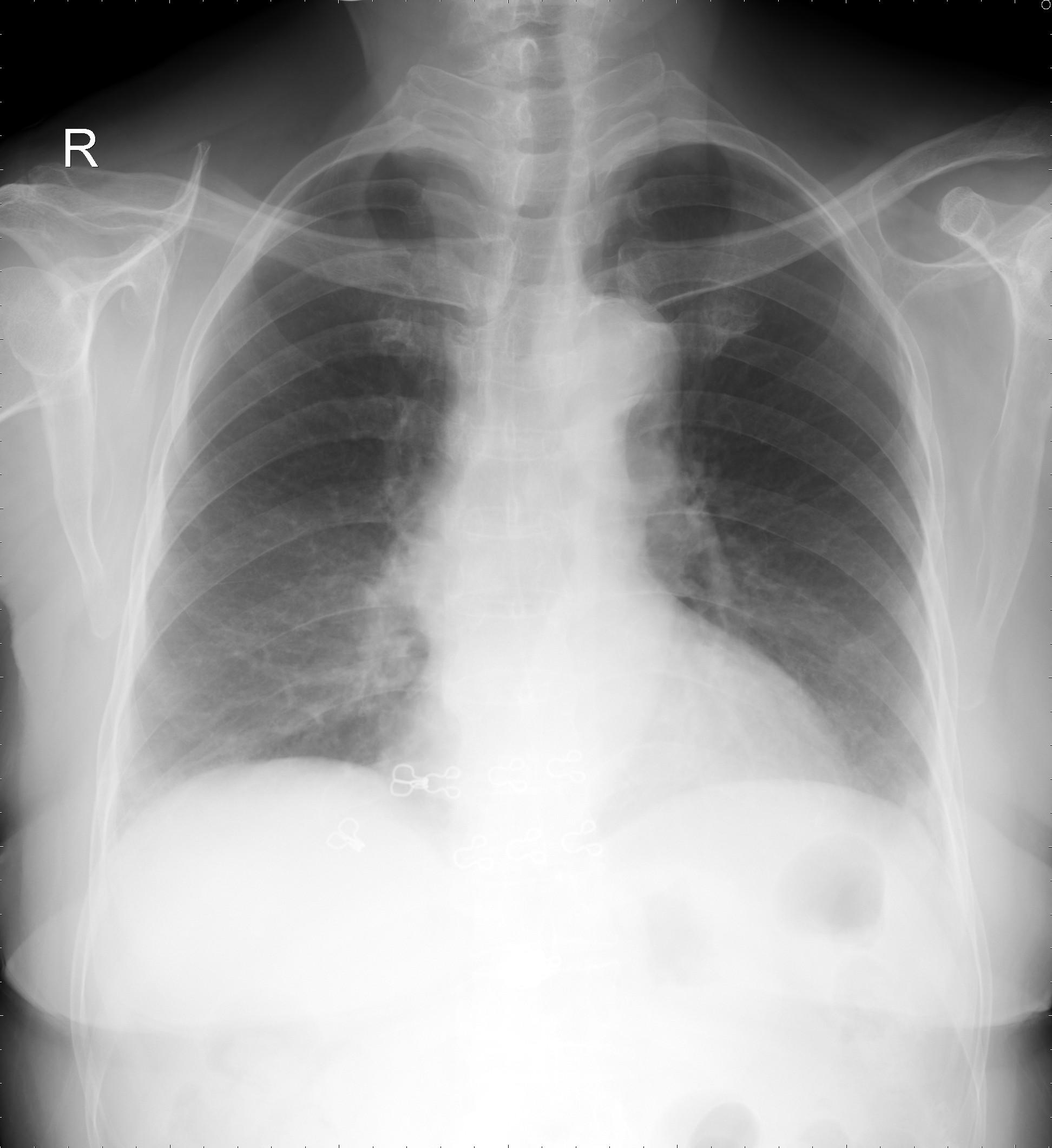Aortic enlargement: (561, 286, 681, 410)
Cardiomegaly: (382, 704, 850, 807)
